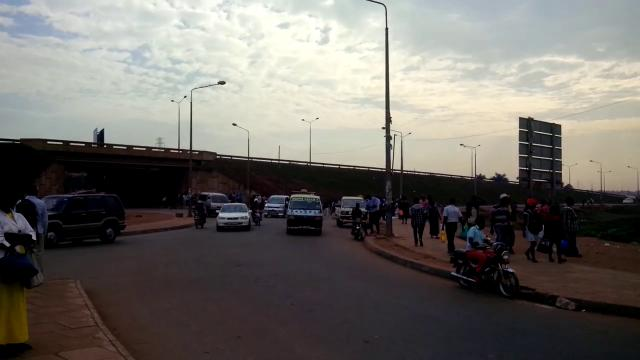car: (40, 192, 128, 247), (215, 200, 252, 229), (264, 195, 291, 218)
motorcycle: (449, 236, 523, 303), (351, 214, 366, 241), (193, 208, 207, 229)
truck: (334, 196, 365, 227)
van: (284, 192, 325, 234), (197, 192, 229, 217)
